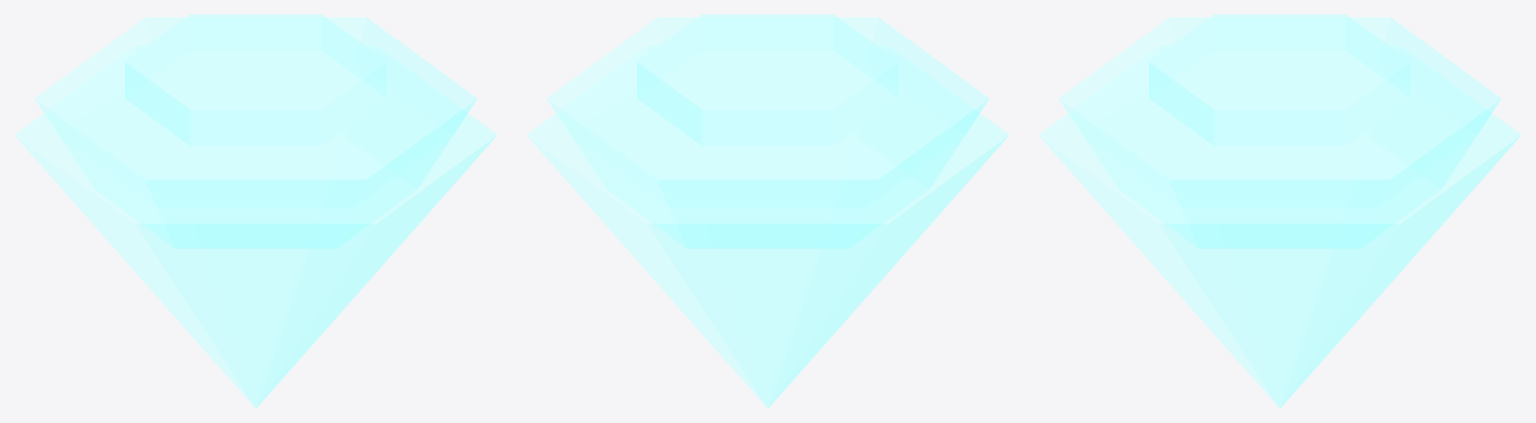
Rendered from GH_Currency_PremiumGem.fbx.
The picture shows the model from 3 angles, left to right: view 1: azimuth 30°, elevation 25°; view 2: azimuth 150°, elevation 25°; view 3: azimuth 270°, elevation 25°; orthographic projection.
Visible parts, largest first — view 1: SM_Currency_PremiumGem; view 2: SM_Currency_PremiumGem; view 3: SM_Currency_PremiumGem.
Part boxes in pixels (x1,y1,x2,y2): SM_Currency_PremiumGem: (14,14,497,408); SM_Currency_PremiumGem: (526,14,1009,408); SM_Currency_PremiumGem: (1038,14,1521,408).
Bounding box in the file's own units: 0.4157 × 0.38 × 0.48.
